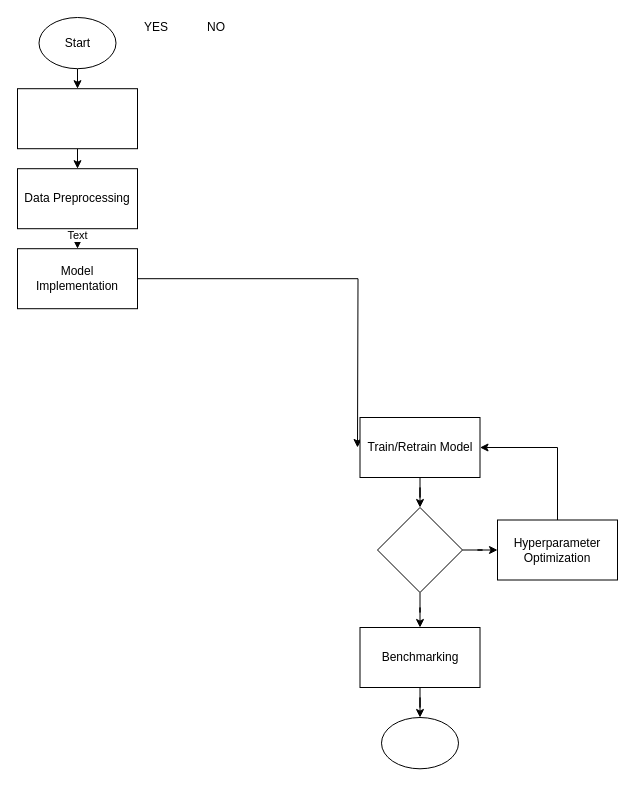
The diagram is 635 pixels wide and 787 high, and some of its shapes have lost their labels. Here are the shapes that lost their labels. From the top down, the centre of each, then its label:
(x=77, y=118): Data Collection/Synthesis
(x=419, y=549): Saturated Accuracy?
(x=419, y=742): End
